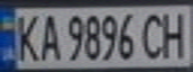6: (115, 10, 142, 61)
8: (81, 10, 103, 61)
9: (63, 11, 84, 62), (100, 11, 121, 62)
A: (33, 10, 63, 62)
C: (139, 9, 169, 61)
H: (157, 7, 193, 58)
K: (9, 10, 42, 63)
